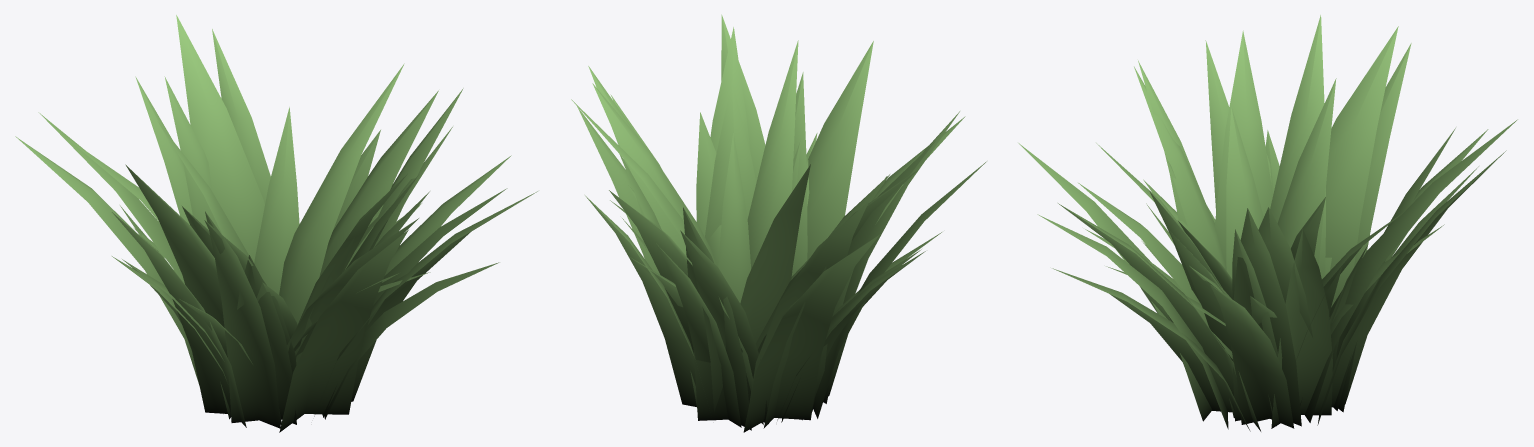
The model's file is SM_Veg_07_TallGrass.fbx.
3 renders of one model, left to right at view 1: azimuth 30°, elevation 25°; view 2: azimuth 150°, elevation 25°; view 3: azimuth 270°, elevation 25°, orthographic.
Visible parts, largest first — view 1: SM_Veg_07_TallGrass; view 2: SM_Veg_07_TallGrass; view 3: SM_Veg_07_TallGrass.
Part boxes in pixels (<box>): SM_Veg_07_TallGrass: <box>15,15,537,432</box>; SM_Veg_07_TallGrass: <box>571,14,986,432</box>; SM_Veg_07_TallGrass: <box>1018,15,1517,431</box>.
Bounding box in the file's own units: 116 × 80 × 123.
